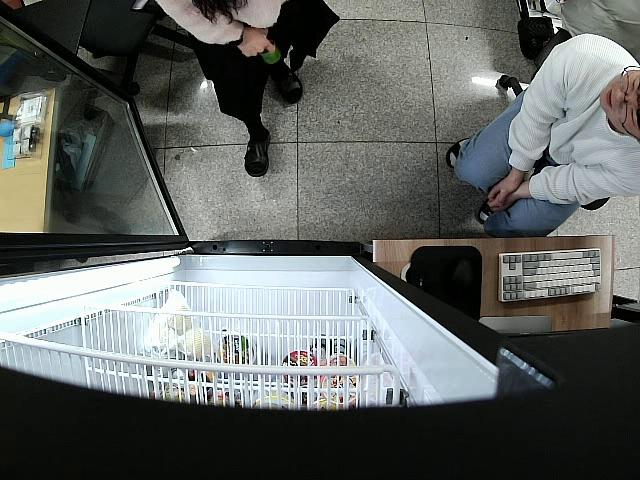00_hand: (237, 30, 274, 61)
